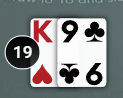9: (57, 18, 82, 46)
k: (30, 18, 56, 45)
